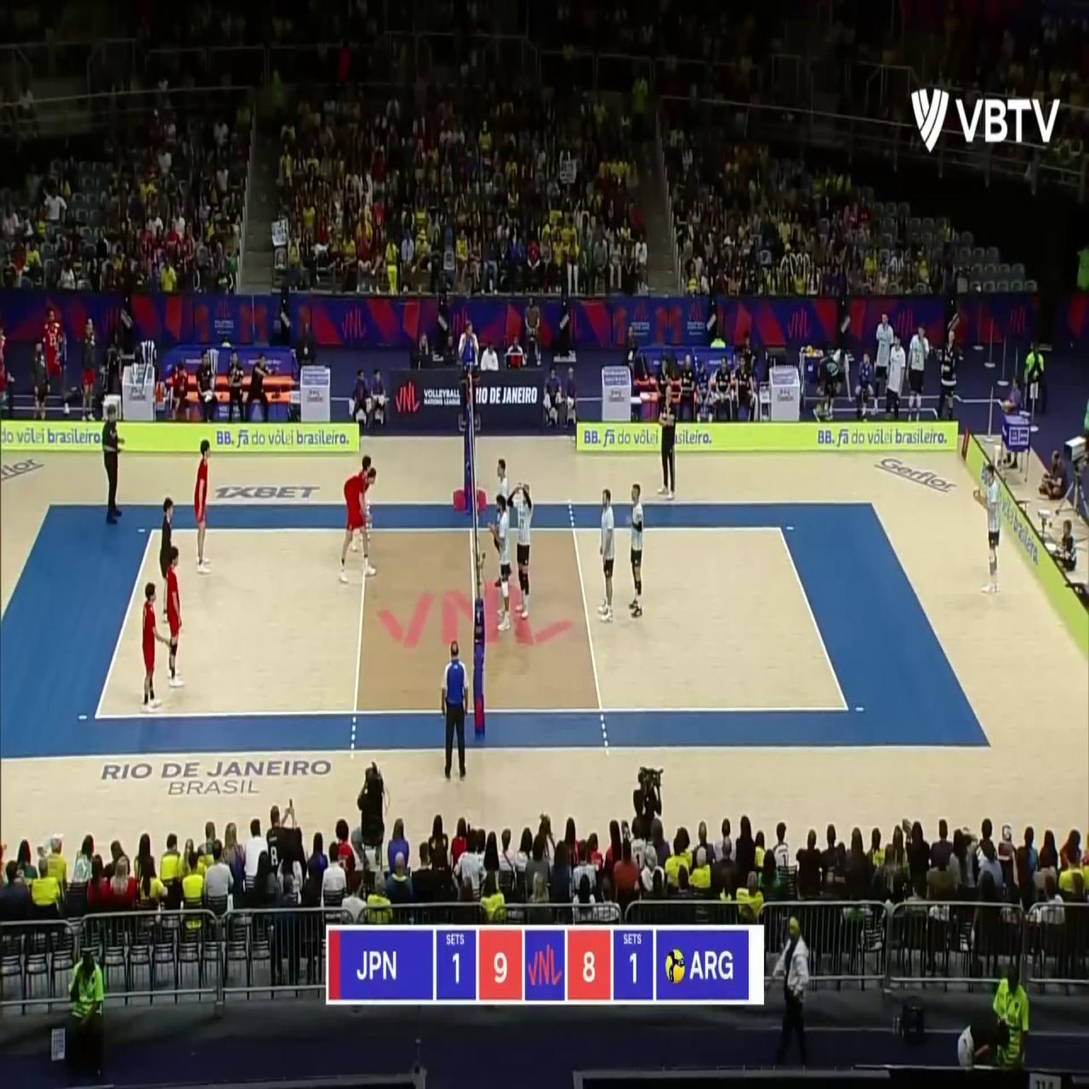ball: (972, 484, 981, 499)
